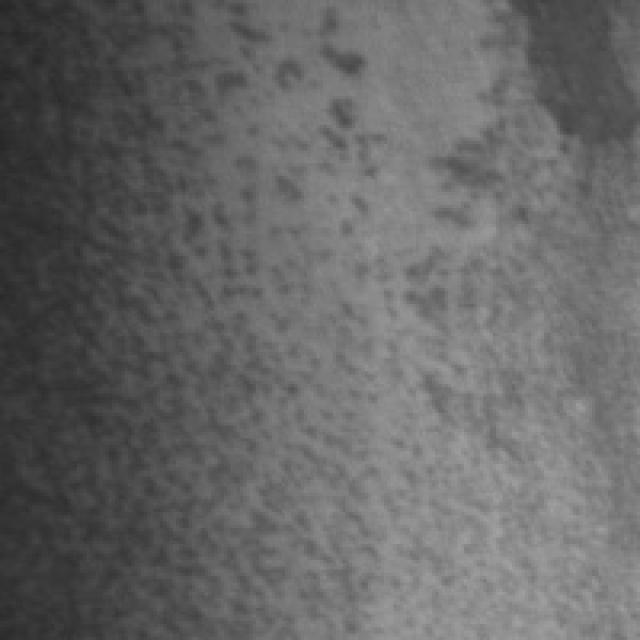patches: (512, 0, 637, 144)
pitted_surface: (10, 3, 448, 630), (320, 13, 595, 611)
